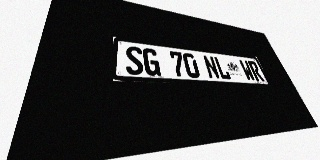0: (182, 52, 201, 78)
7: (168, 51, 187, 78)
G: (142, 48, 161, 76)
L: (213, 56, 232, 80)
N: (202, 55, 221, 79)
R: (247, 60, 265, 81)
S: (125, 45, 144, 75)
W: (238, 59, 256, 81)
